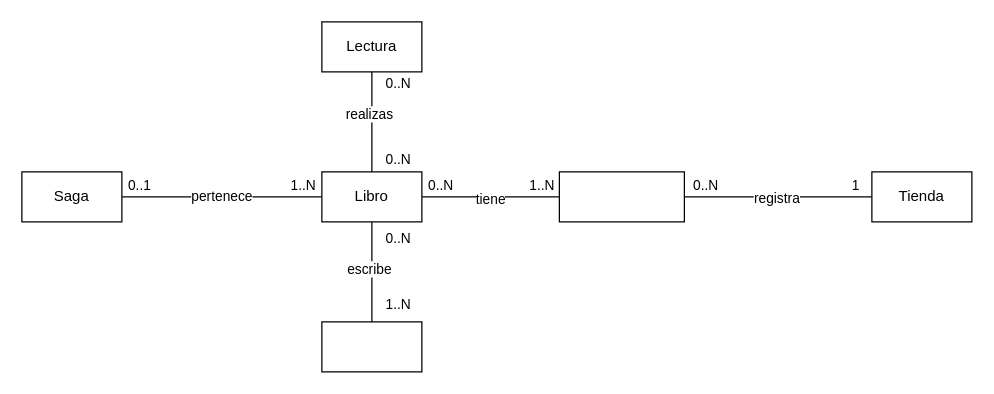
The diagram is 994 pixels wide and 394 high, and some of its shapes have lost their labels. Each missing label, with the box of its shape:
Autor: (321, 321, 422, 372)
Historico Precio: (558, 171, 684, 222)
